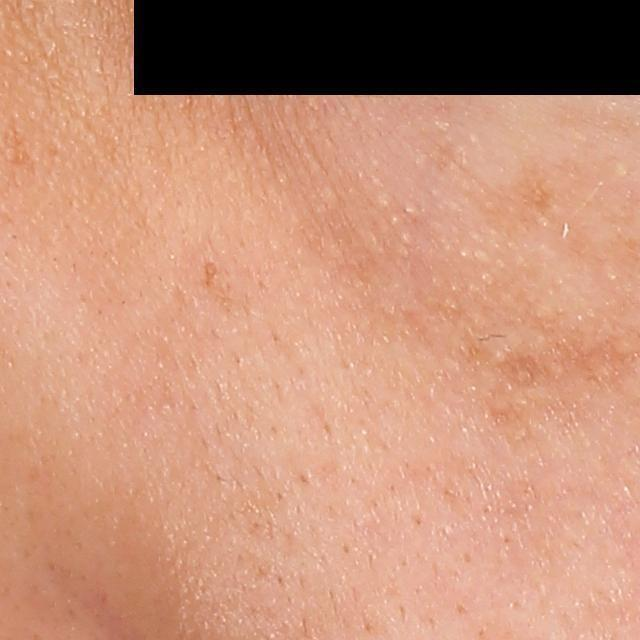melasma: (478, 165, 554, 242), (3, 112, 42, 185)
